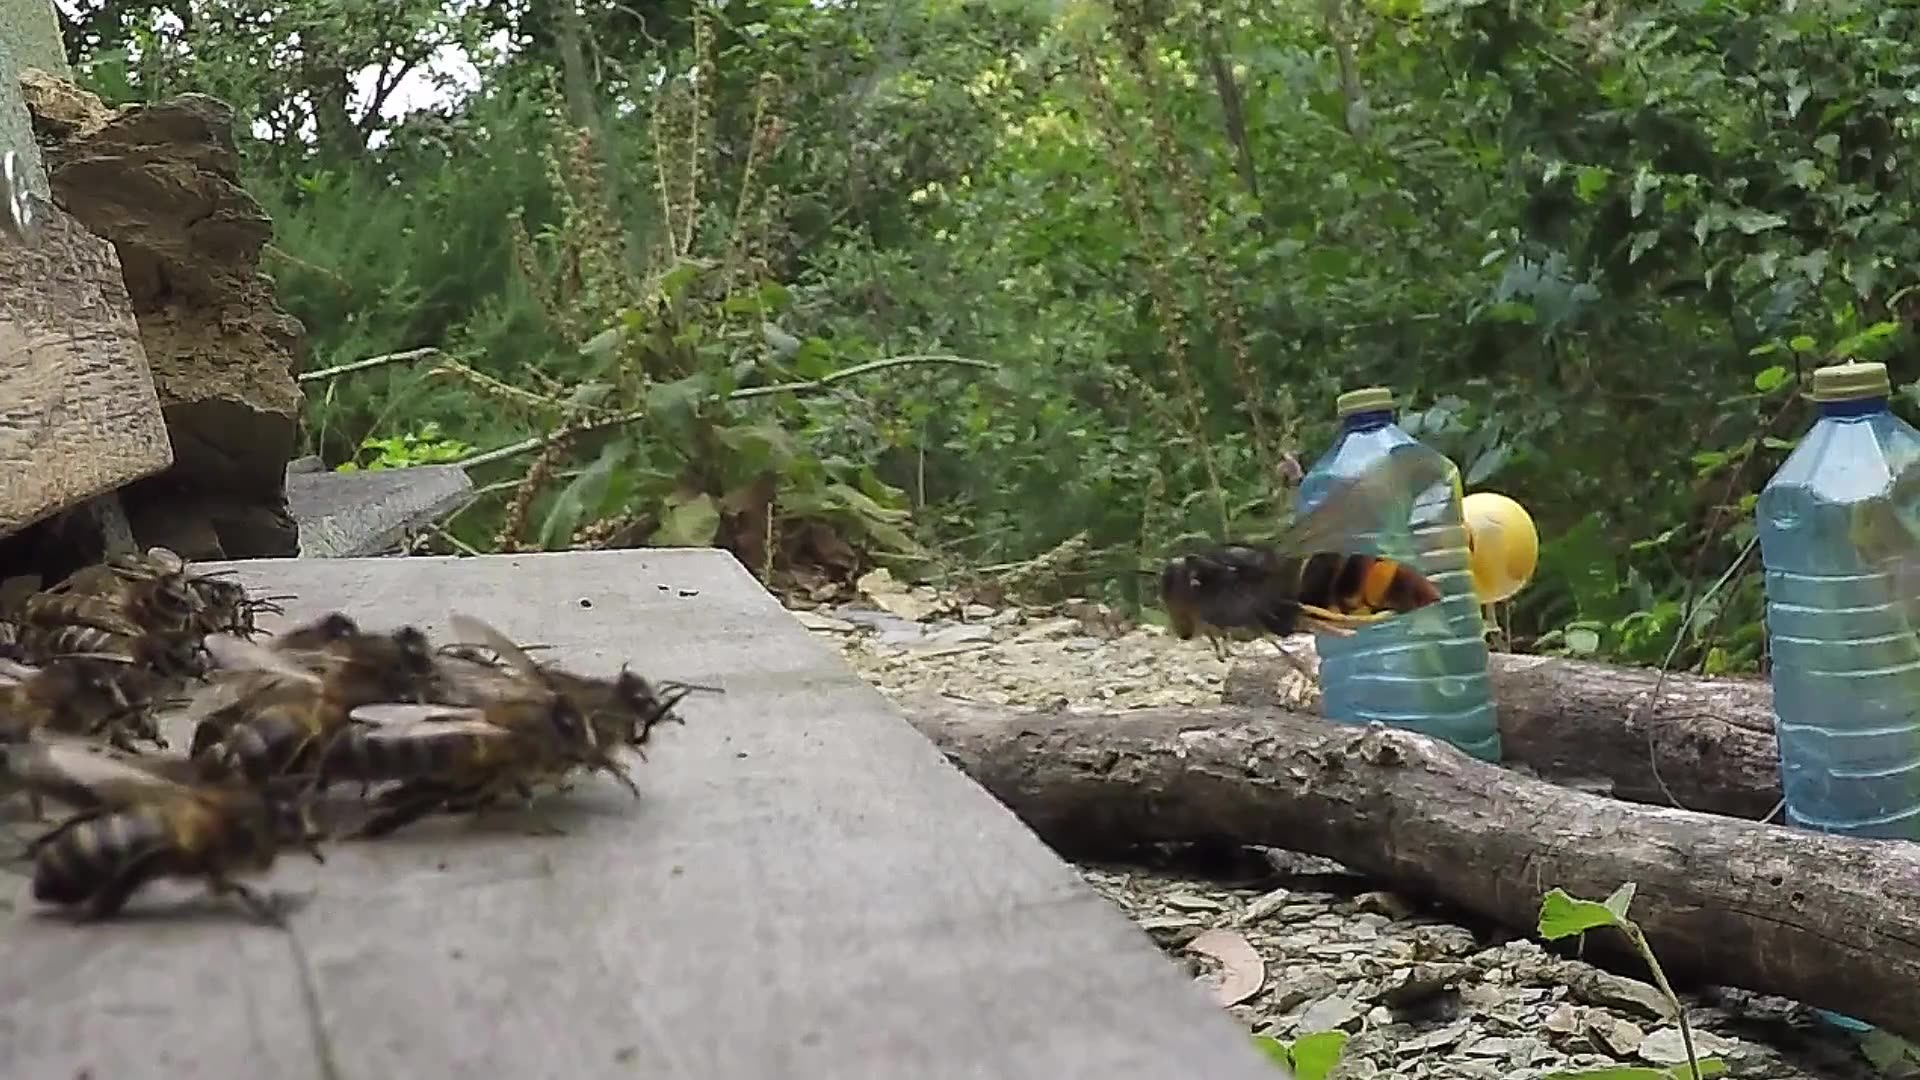bee: (219, 601, 711, 868), (3, 756, 305, 943), (4, 535, 274, 737)
hornet: (1139, 526, 1477, 667)
